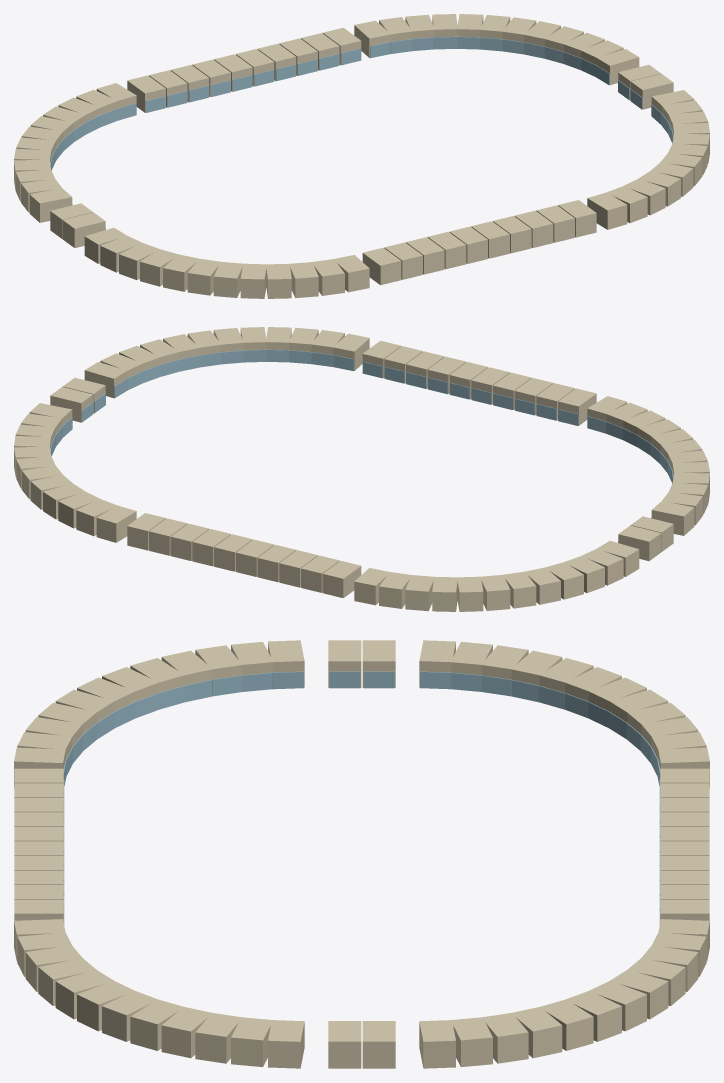
File: SM_Arena_Main_Suites.fbx
3 renders of one model, top to bottom at view 1: azimuth 30°, elevation 25°; view 2: azimuth 150°, elevation 25°; view 3: azimuth 270°, elevation 25°, orthographic. The views are drawn at different scales.
Parts seen in each view (by area): view 1: SM_Arena_Main_Suites; view 2: SM_Arena_Main_Suites; view 3: SM_Arena_Main_Suites.
Part boxes in pixels (x1,y1,x2,y2): SM_Arena_Main_Suites: (14, 14, 709, 298); SM_Arena_Main_Suites: (14, 327, 709, 611); SM_Arena_Main_Suites: (14, 640, 709, 1068).
Size of the model in its own units: 11588 by 360 by 8488.
